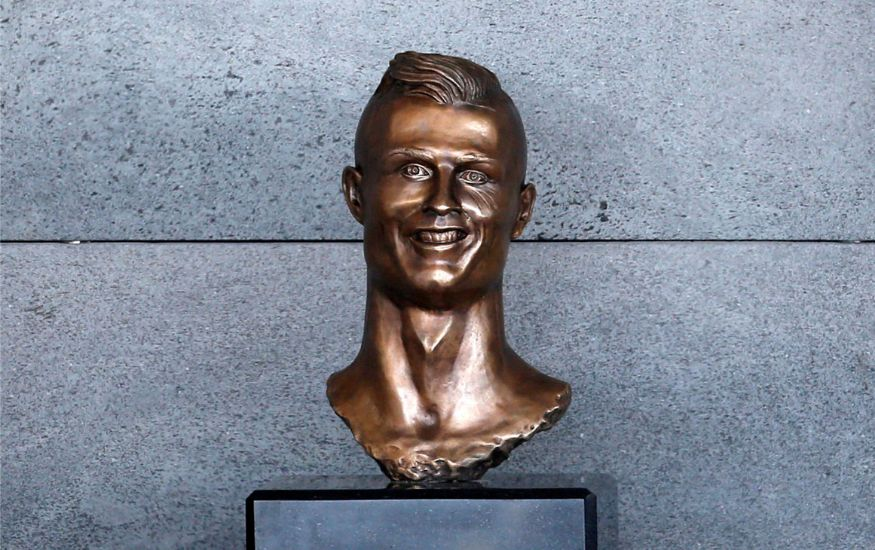person-like: (320, 46, 577, 491)
